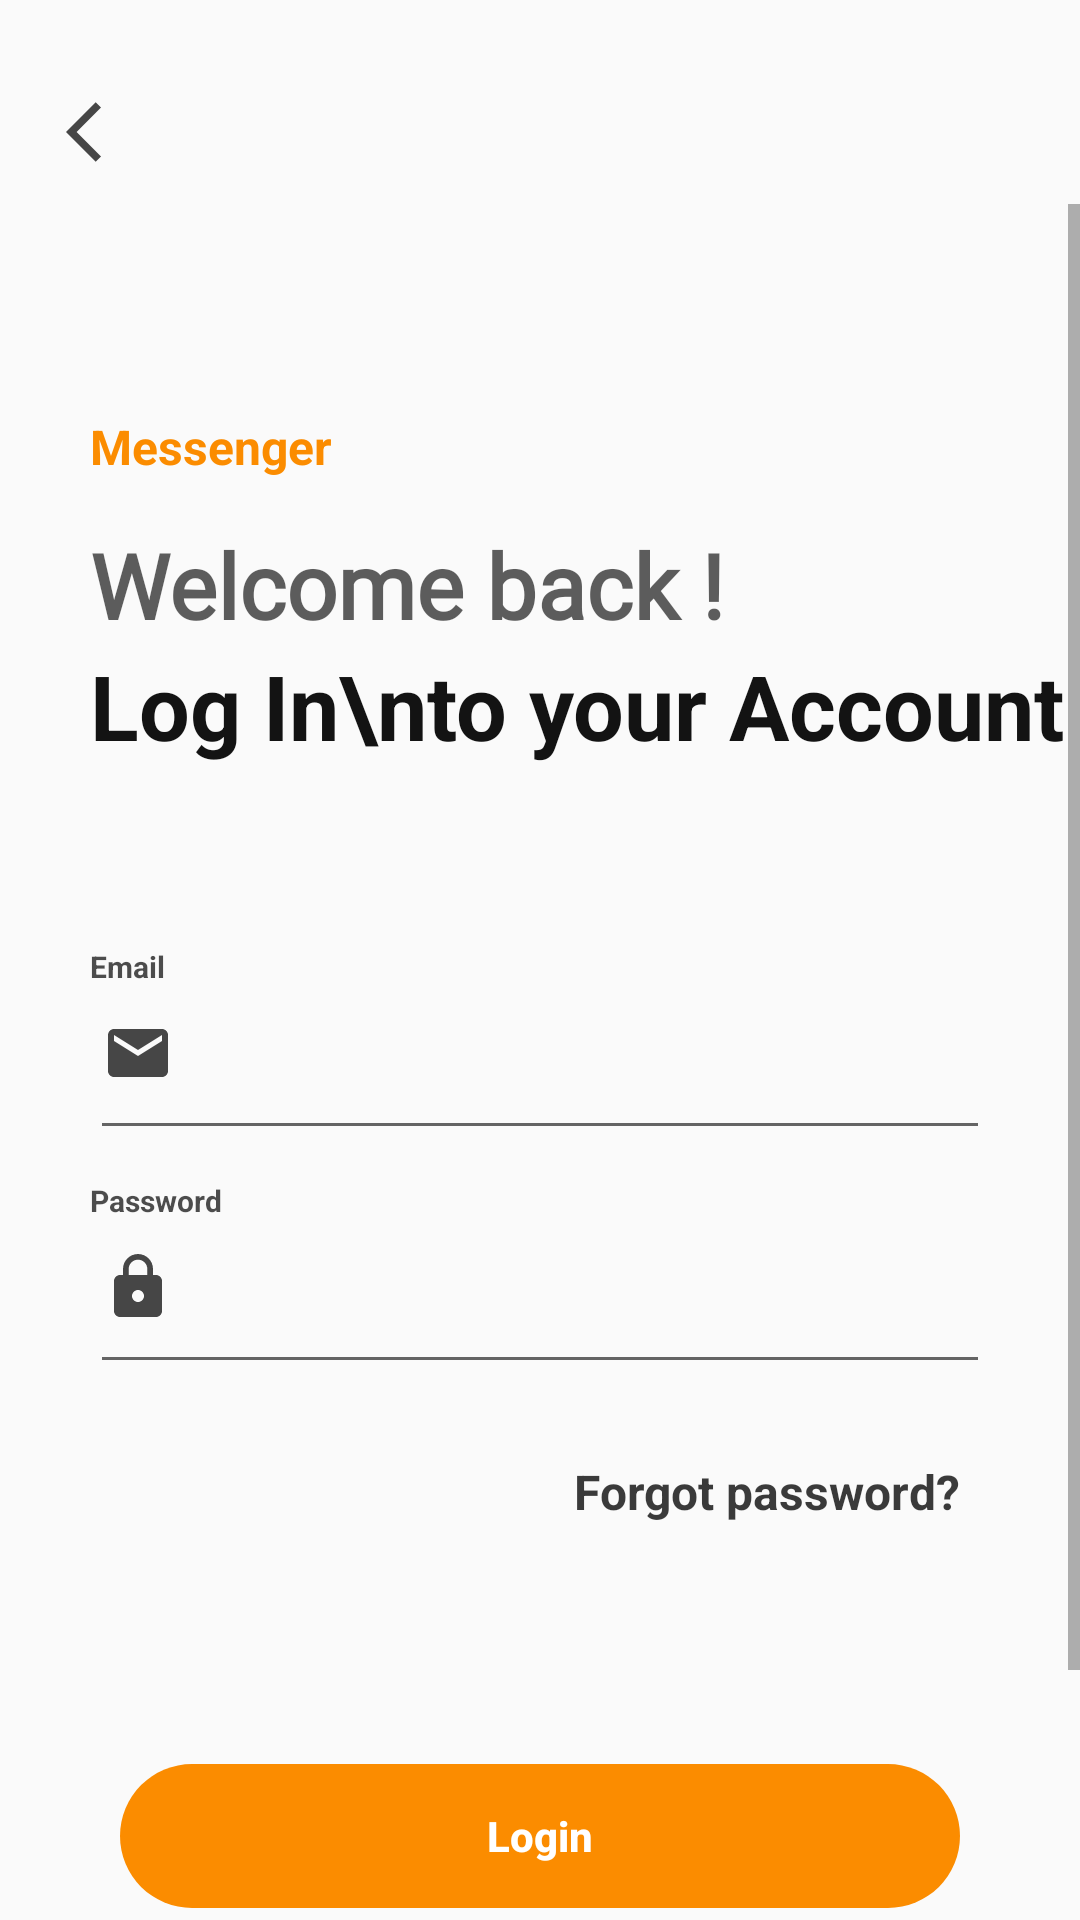

Icon bounding boxes for this 1080×1920 phone screenshot, format [left=x1, top=y1, right=x2, bottom=y2]:
go back: [left=66, top=102, right=101, bottom=162]
